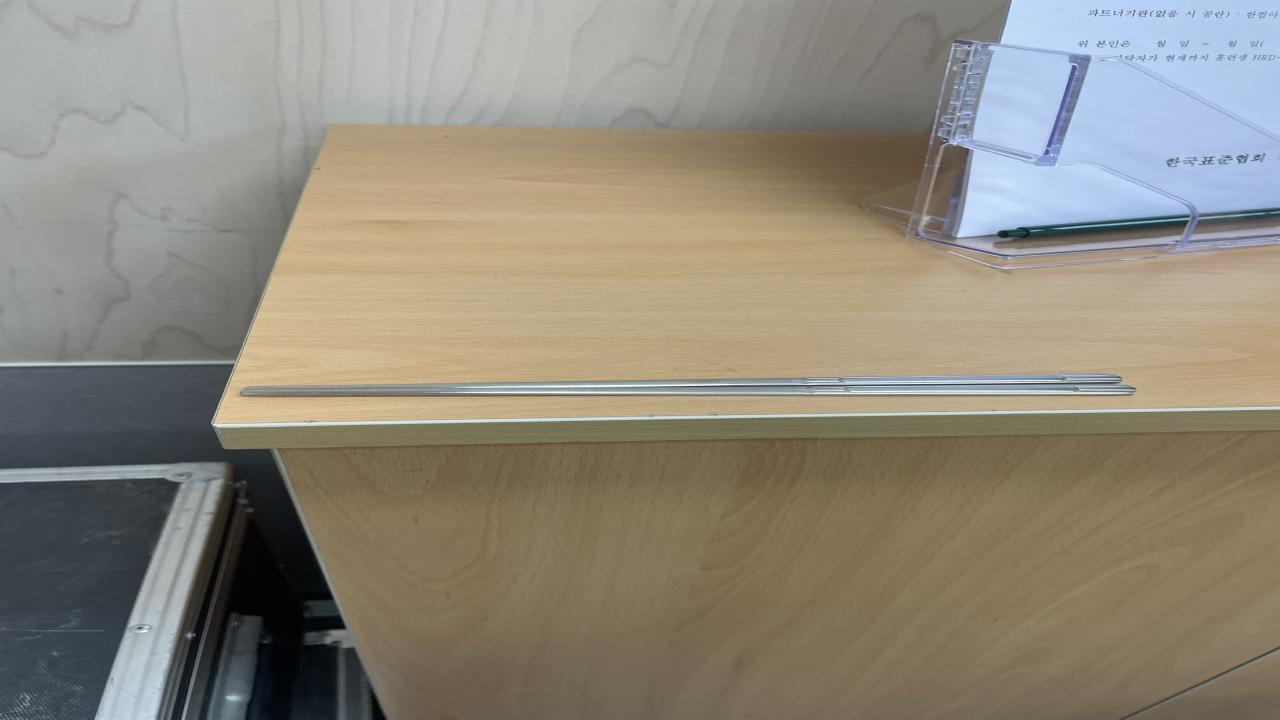chopstick: (239, 372, 1143, 398)
